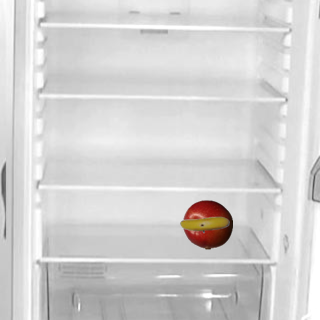Apple Braeburn: (182, 199, 232, 249)
Banana: (179, 199, 229, 249)
